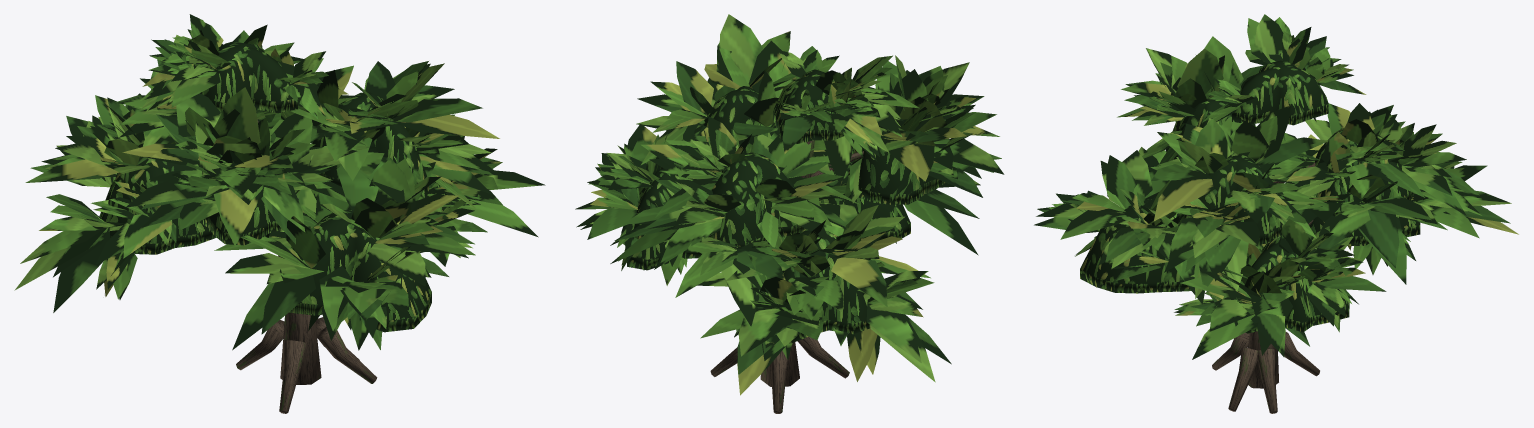
The model's file is Sapling_Tree.glb.
3 renders of one model, left to right at view 1: azimuth 30°, elevation 25°; view 2: azimuth 150°, elevation 25°; view 3: azimuth 270°, elevation 25°, orthographic. The views are drawn at different scales.
Visible parts, largest first — view 1: Sapling_Tree__Leaves_Detail, Sapling_Tree__Leaves_Mass, Sapling_Tree__Bark; view 2: Sapling_Tree__Leaves_Detail, Sapling_Tree__Leaves_Mass, Sapling_Tree__Bark; view 3: Sapling_Tree__Leaves_Detail, Sapling_Tree__Leaves_Mass, Sapling_Tree__Bark.
Boxes of the visible parts, x1=… form: Sapling_Tree__Leaves_Detail: x1=14, y1=14, x2=545, y2=350; Sapling_Tree__Leaves_Mass: x1=99, y1=41, x2=446, y2=332; Sapling_Tree__Bark: x1=236, y1=119, x2=377, y2=413; Sapling_Tree__Leaves_Detail: x1=575, y1=14, x2=1004, y2=395; Sapling_Tree__Leaves_Mass: x1=621, y1=69, x2=944, y2=343; Sapling_Tree__Bark: x1=710, y1=140, x2=863, y2=413; Sapling_Tree__Leaves_Detail: x1=1034, y1=14, x2=1518, y2=359; Sapling_Tree__Leaves_Mass: x1=1080, y1=60, x2=1420, y2=333; Sapling_Tree__Bark: x1=1212, y1=163, x2=1319, y2=413.
Bounding box in the file's own units: 20.94 × 16.89 × 22.8.
Materials: 2 (2 with a texture image).
